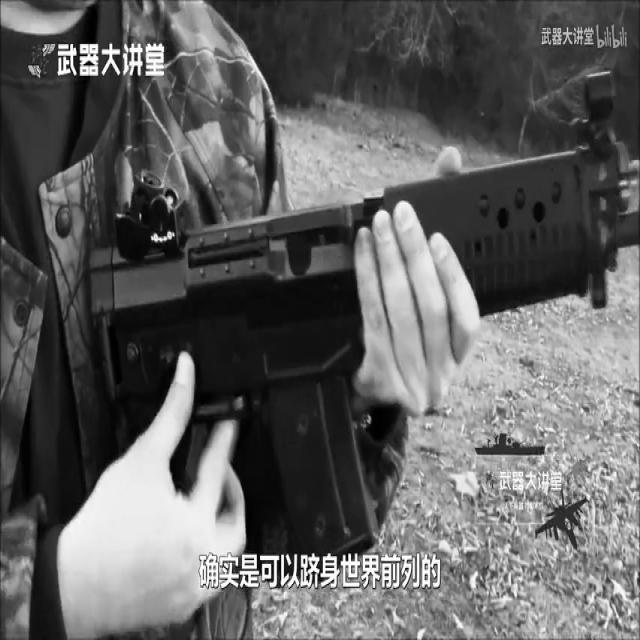Sub-machine-gun: (94, 88, 636, 491)
